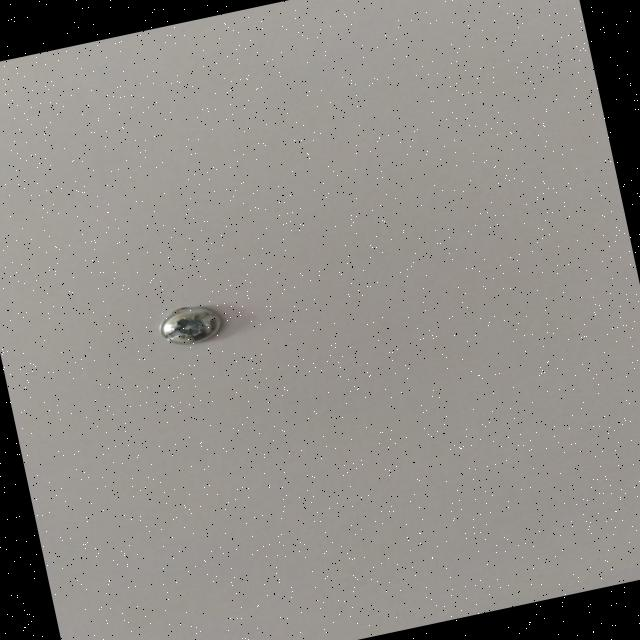Pozidriv: (146, 300, 242, 356)
